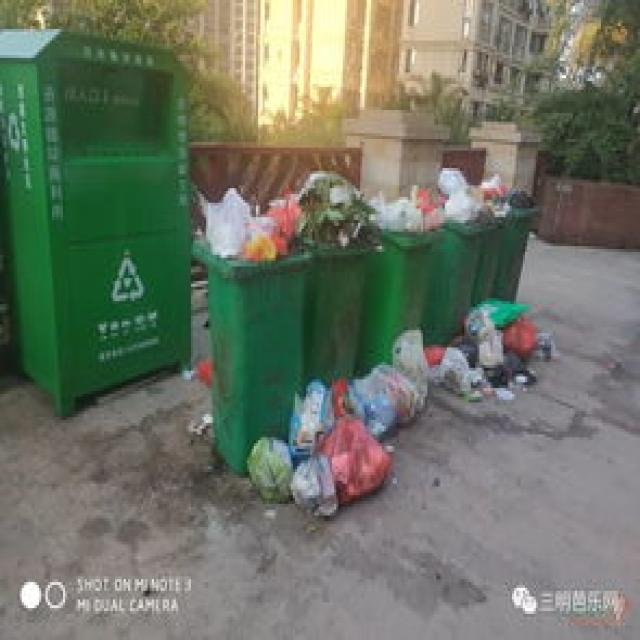garbage: (245, 292, 553, 516)
overflow: (187, 182, 310, 472), (360, 180, 438, 362), (306, 168, 369, 379), (421, 165, 495, 342), (473, 174, 536, 298)
